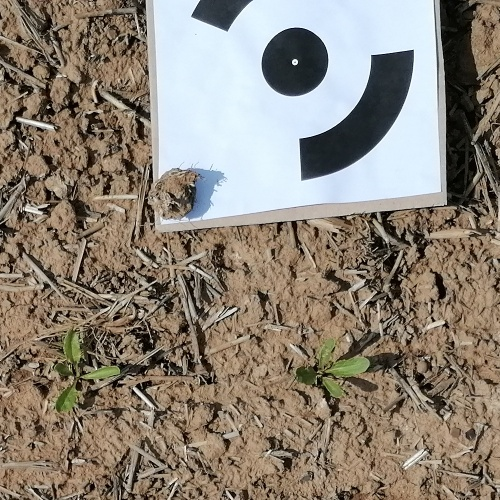beet: (52, 332, 120, 414), (295, 342, 368, 399)
